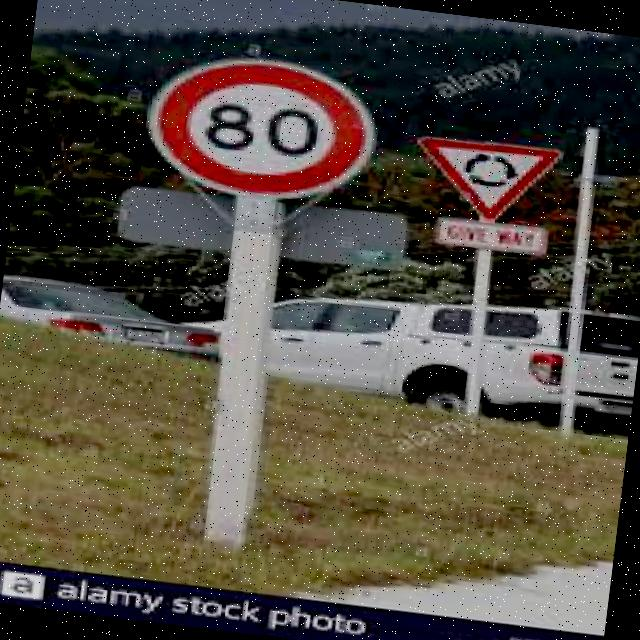Ograniczenie predkosci do 80: (133, 44, 384, 215)
